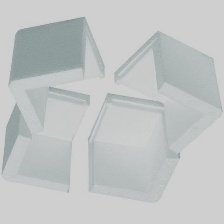foam_box: (110, 28, 224, 158), (5, 12, 108, 137), (84, 90, 187, 205), (0, 82, 92, 196)
